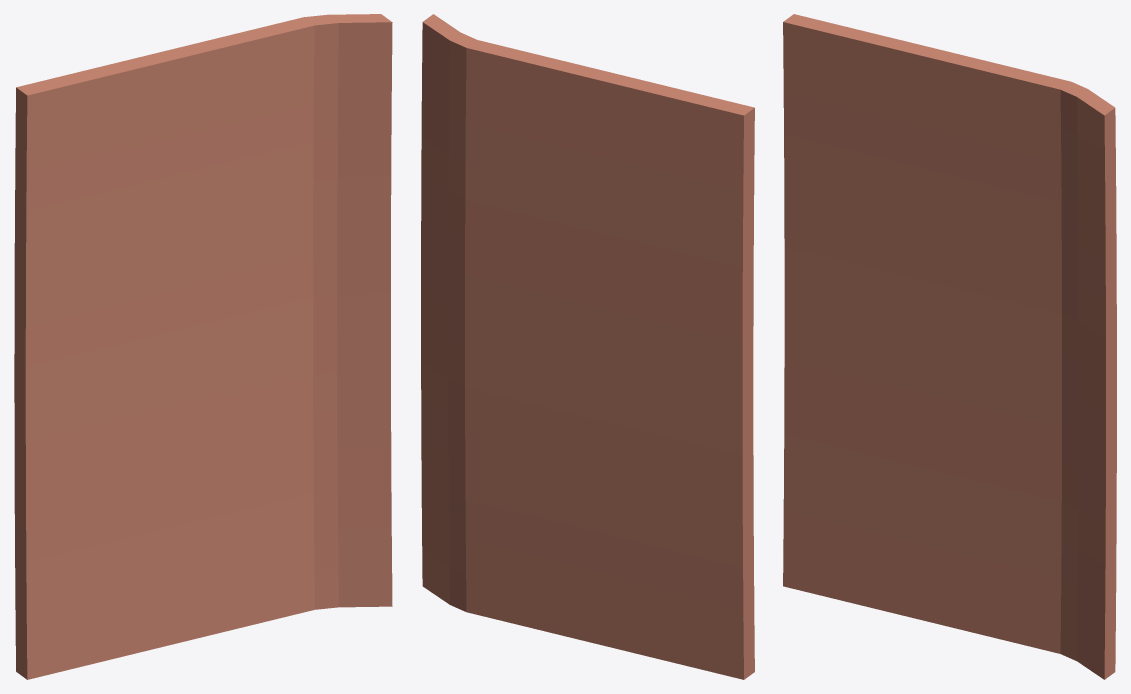
File: krempziegel.glb
3 views of the same model, side by side, from view 1: azimuth 30°, elevation 25°; view 2: azimuth 150°, elevation 25°; view 3: azimuth 330°, elevation 25° (orthographic). The views are drawn at different scales.
Visible parts, largest first — view 1: world; view 2: world; view 3: world.
Boxes of the visible parts, x1,y1,x2,y2 form: world: (14, 14, 392, 679); world: (421, 14, 754, 679); world: (783, 14, 1116, 679).
Bounding box in the file's own units: 0.25 × 0.4 × 0.036.
